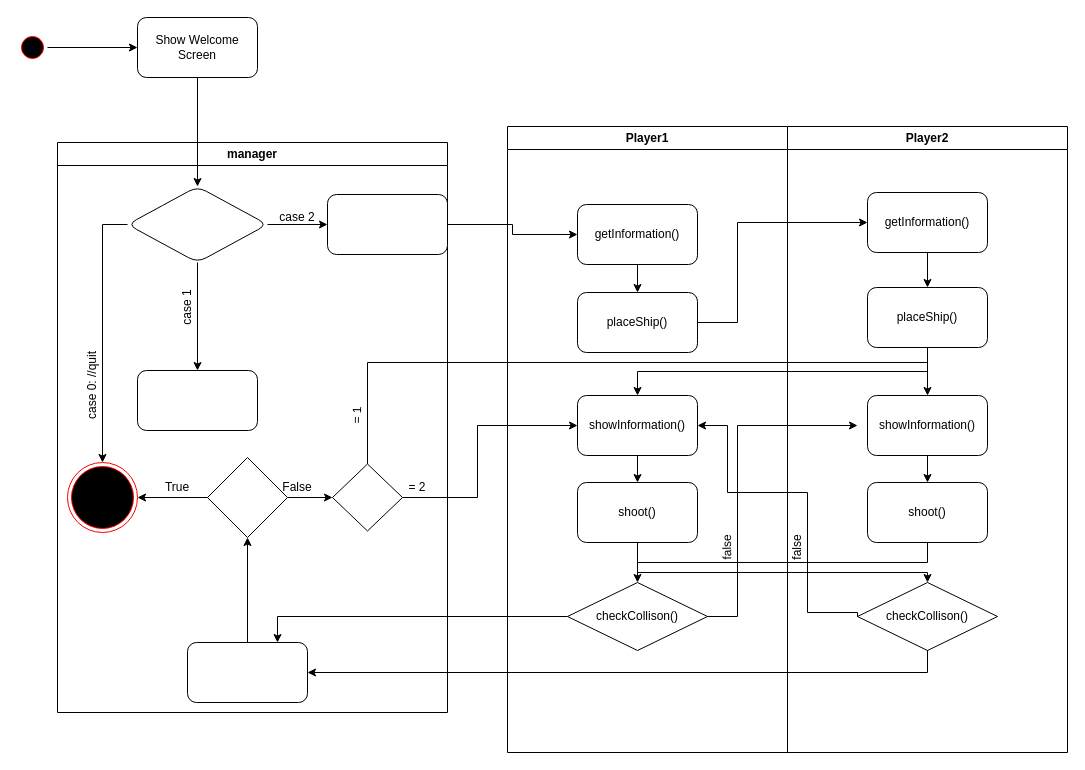
Image size: 1085x770. Some labels were removed from this diagram. Here are the shapes that lost their labels. From the top down, the centre of each, then its label:
At point 197,224: "switch(option)".
At point 387,224: "Init player1,player 2".
At point 197,400: "Show game instructions".
At point 247,497: "isEnd()".
At point 367,497: "turn".
At point 247,672: "update()".
